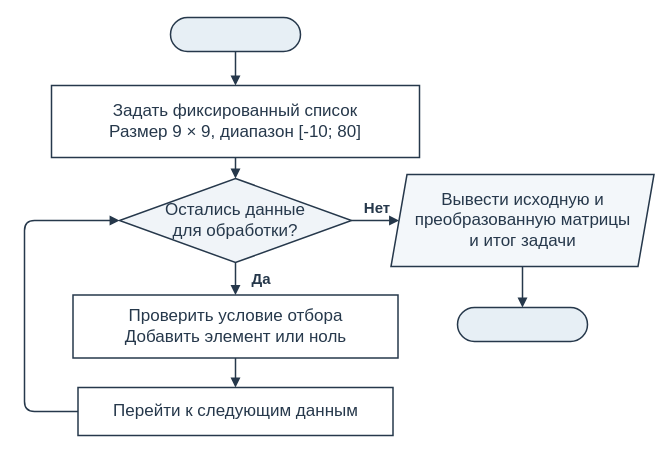
Some shapes in this 672 by 454 pixel diagram are drawn without their labels. Each missing label, with the box of its shape:
Конец: (456, 306, 588, 342)
Начало: (169, 16, 301, 52)
